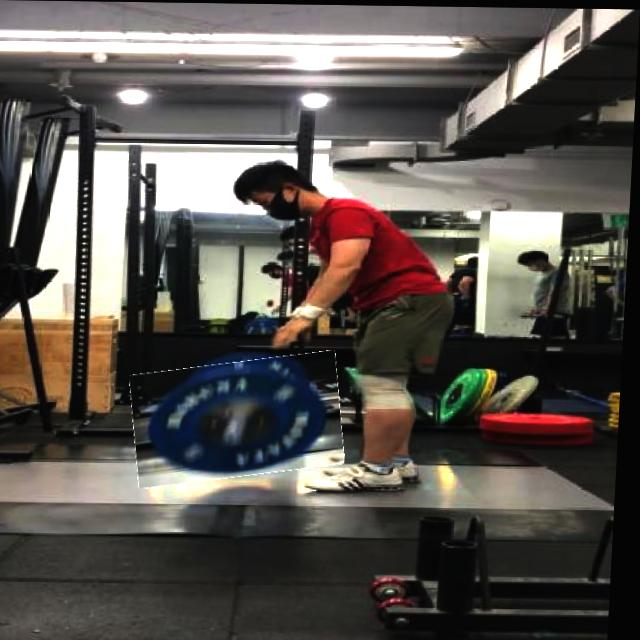barbell: (134, 355, 352, 485)
